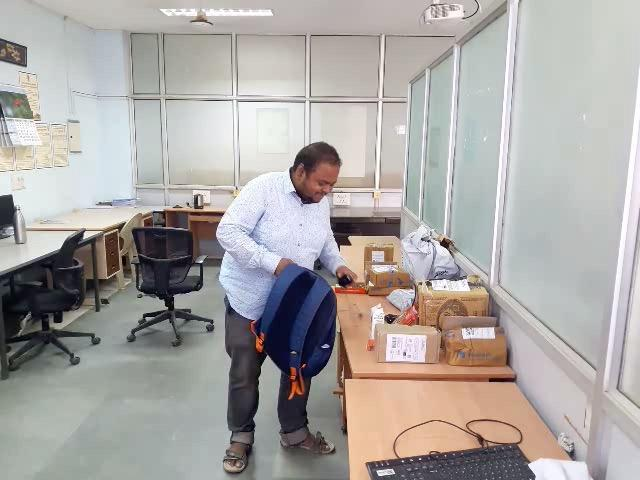shoplifting: (176, 213, 424, 418)
